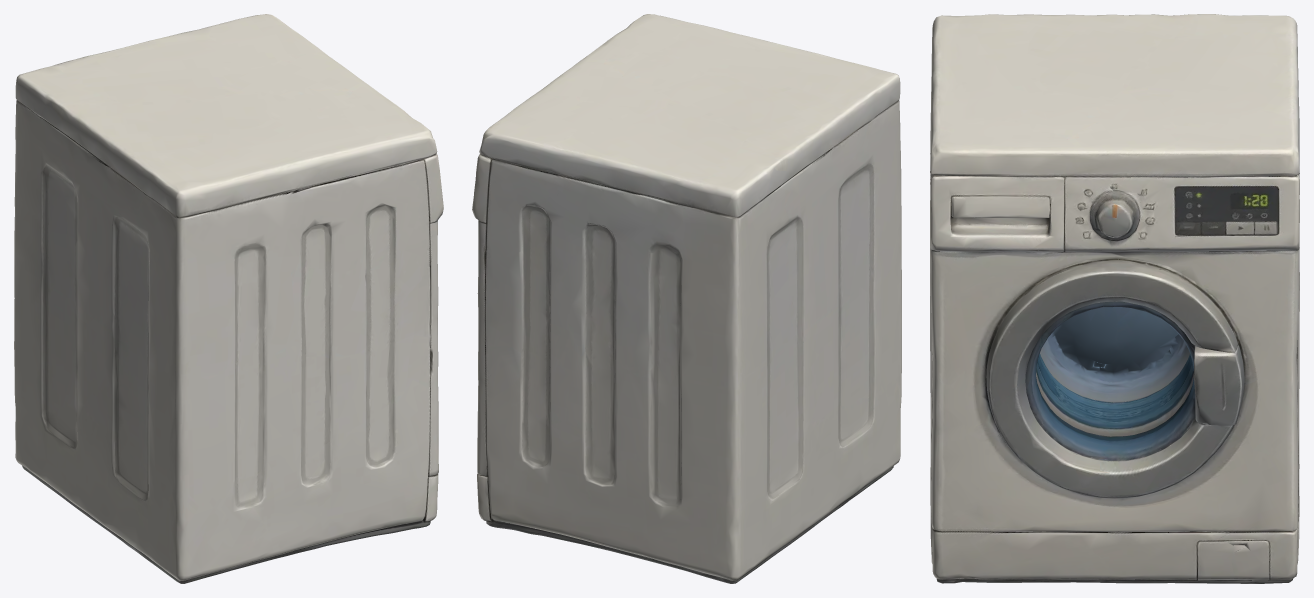
The model's file is lavarropas.glb.
The picture shows the model from 3 angles, left to right: view 1: azimuth 30°, elevation 25°; view 2: azimuth 150°, elevation 25°; view 3: azimuth 270°, elevation 25°; orthographic projection. The views are drawn at different scales.
Parts seen in each view (by area): view 1: tripo_node_41cae5f2-b2e4-41ab-a29e-175b4b9ec92b; view 2: tripo_node_41cae5f2-b2e4-41ab-a29e-175b4b9ec92b; view 3: tripo_node_41cae5f2-b2e4-41ab-a29e-175b4b9ec92b.
Boxes of the visible parts, x1=… form: tripo_node_41cae5f2-b2e4-41ab-a29e-175b4b9ec92b: x1=14, y1=14, x2=443, y2=583; tripo_node_41cae5f2-b2e4-41ab-a29e-175b4b9ec92b: x1=472, y1=14, x2=901, y2=583; tripo_node_41cae5f2-b2e4-41ab-a29e-175b4b9ec92b: x1=930, y1=14, x2=1299, y2=583.
Size of the model in its own units: 0.7525 by 1 by 0.769.
1 material, 1 textured.
